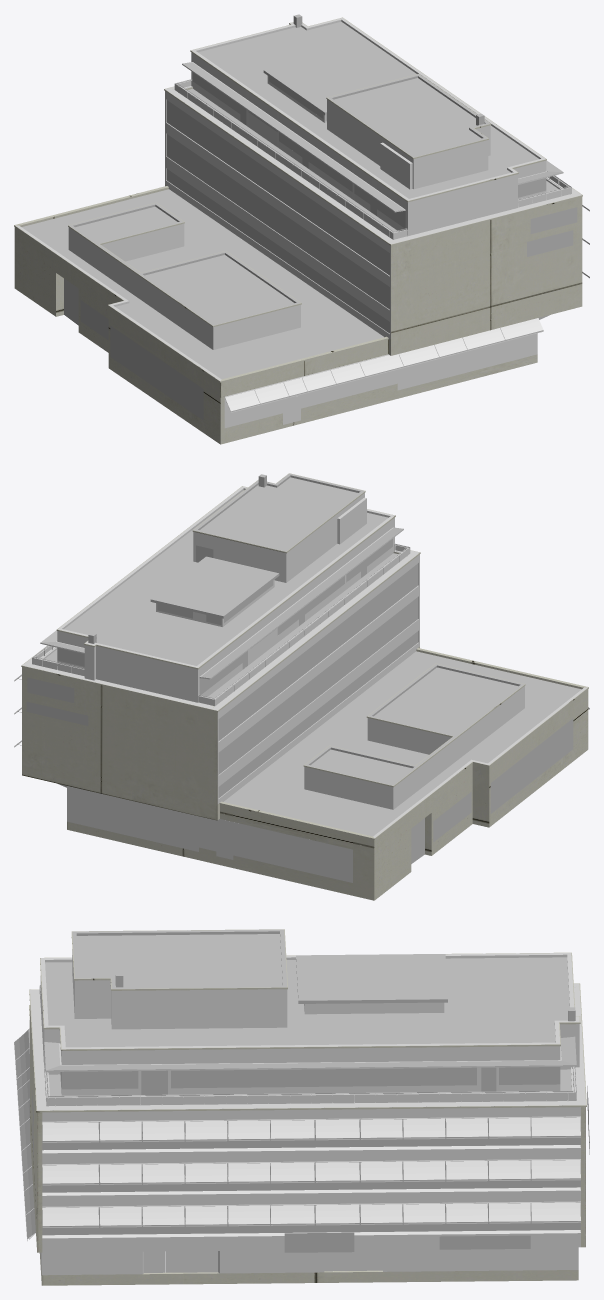
File: Kirkkokatu_6.dae
3 views of the same model, one above another, from view 1: azimuth 30°, elevation 25°; view 2: azimuth 150°, elevation 25°; view 3: azimuth 270°, elevation 25° (orthographic). The views are drawn at different scales.
Parts seen in each view (by area): view 1: Kirkkokatu_10; view 2: Kirkkokatu_10; view 3: Kirkkokatu_10.
Boxes of the visible parts, box(x1,y1,x2,y2) form: Kirkkokatu_10: box(14, 14, 589, 444); Kirkkokatu_10: box(14, 473, 589, 900); Kirkkokatu_10: box(14, 929, 589, 1285).
Size of the model in its own units: 39.6 by 40.74 by 23.01.
